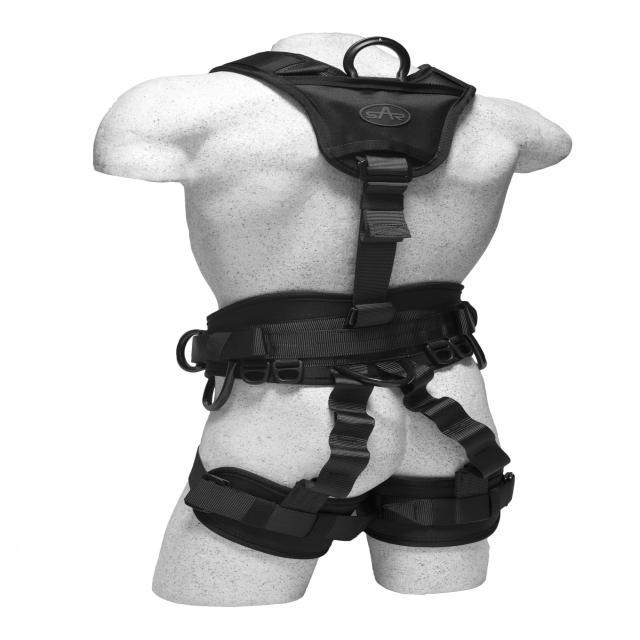Arnes_seguridad: (171, 50, 540, 553)
